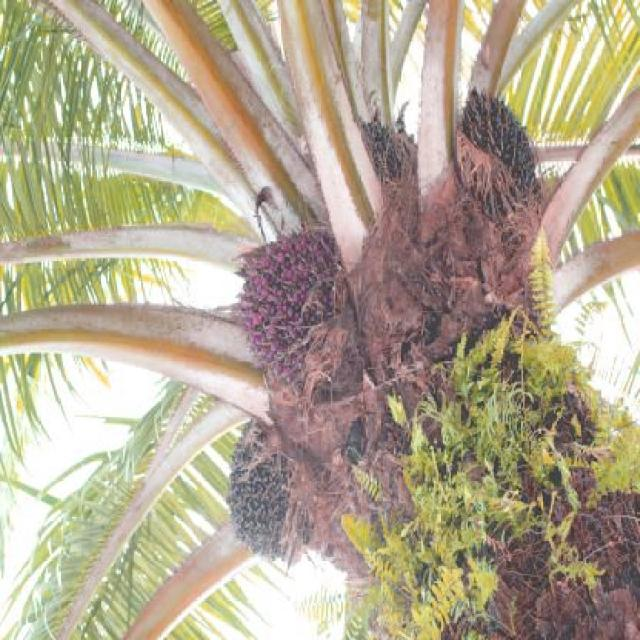palm-oil: (222, 223, 362, 383), (215, 422, 324, 556), (459, 82, 553, 219), (346, 106, 431, 212)
